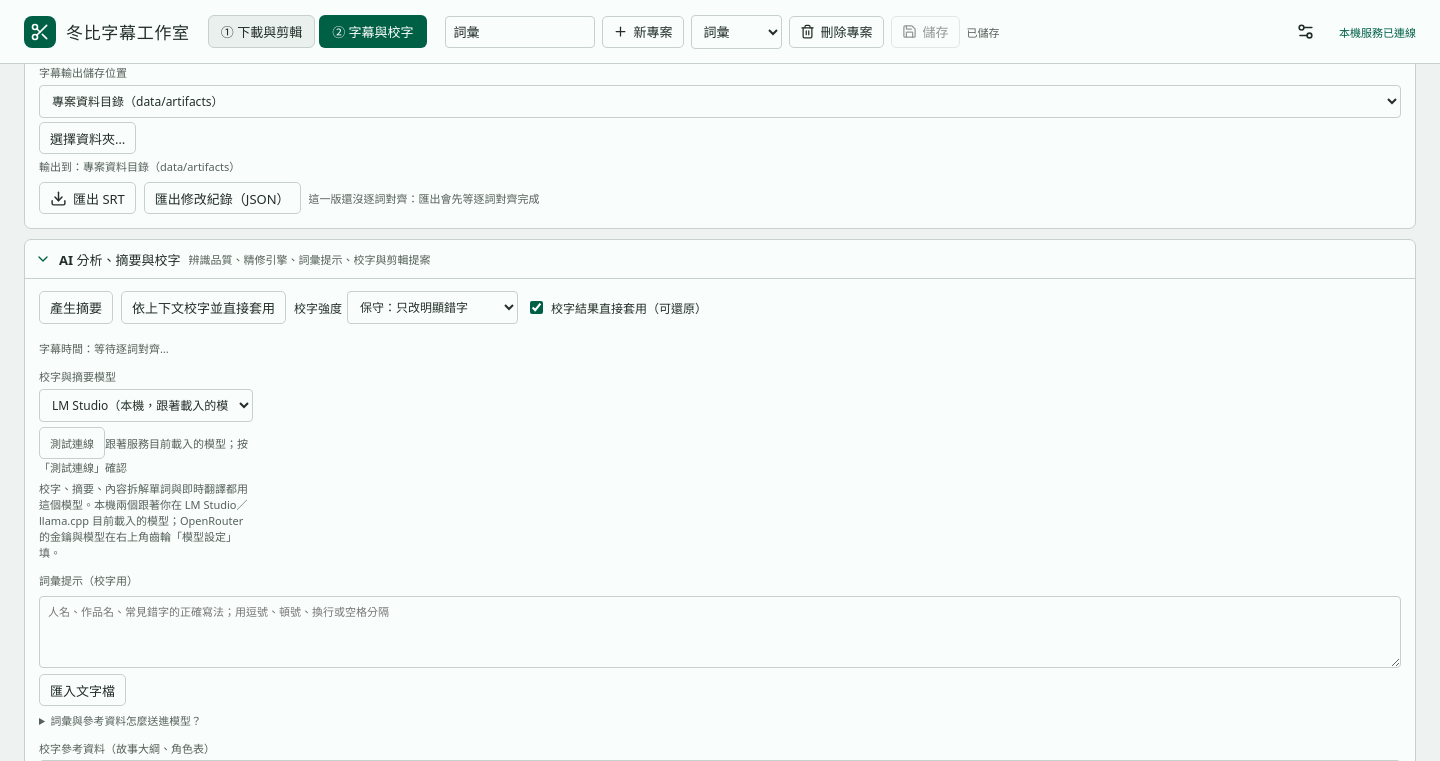
Test case: keeps the OpenRouter port selectable and shows what the backend has configured
The image size is (1440, 761).
(page scrolled)
Check: the button "依上下文校字並直接套用" is enabled, box x1=121 y1=291 x2=286 y2=324
Select "OpenRouter（遠端 API，需金鑰）" in the dropdown labelled "校字與摘要模型" at point(146, 406), box x1=39 y1=389 x2=253 y2=422
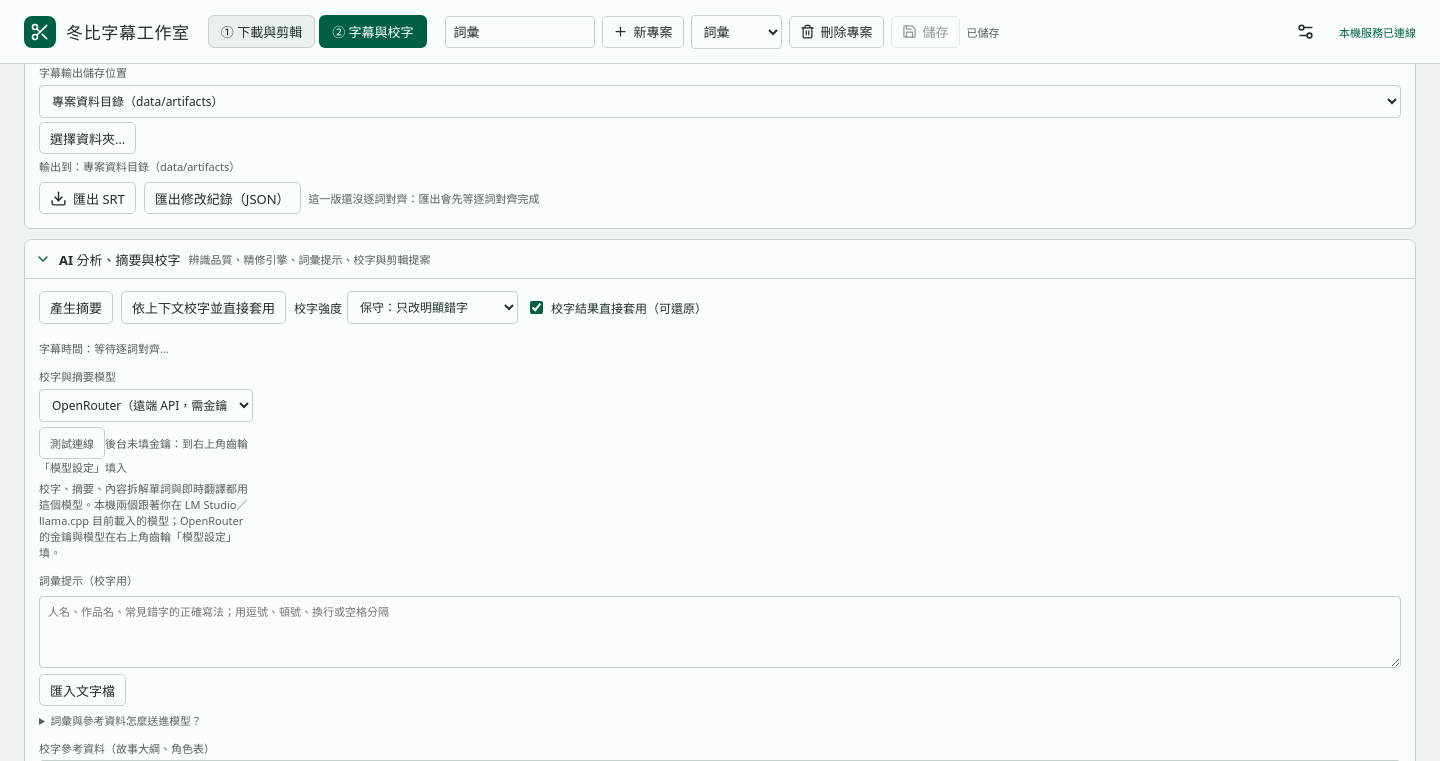
Check: the text "後台未填金鑰：到右上角齒輪「模型設定」填入" is shown, box x1=39 y1=436 x2=248 y2=475
